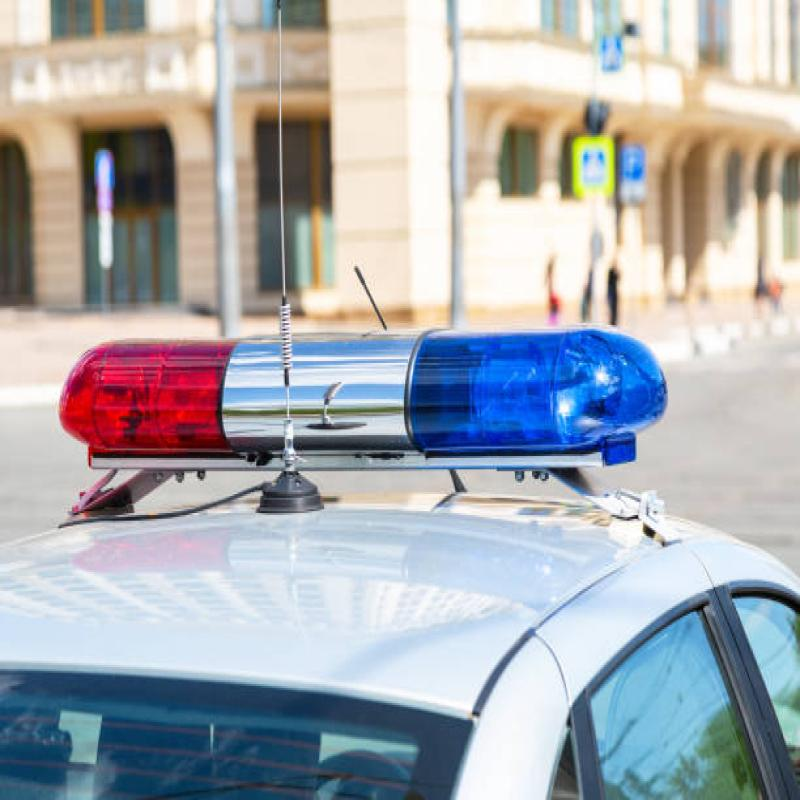AmbulanceSiren: (49, 281, 696, 509)
